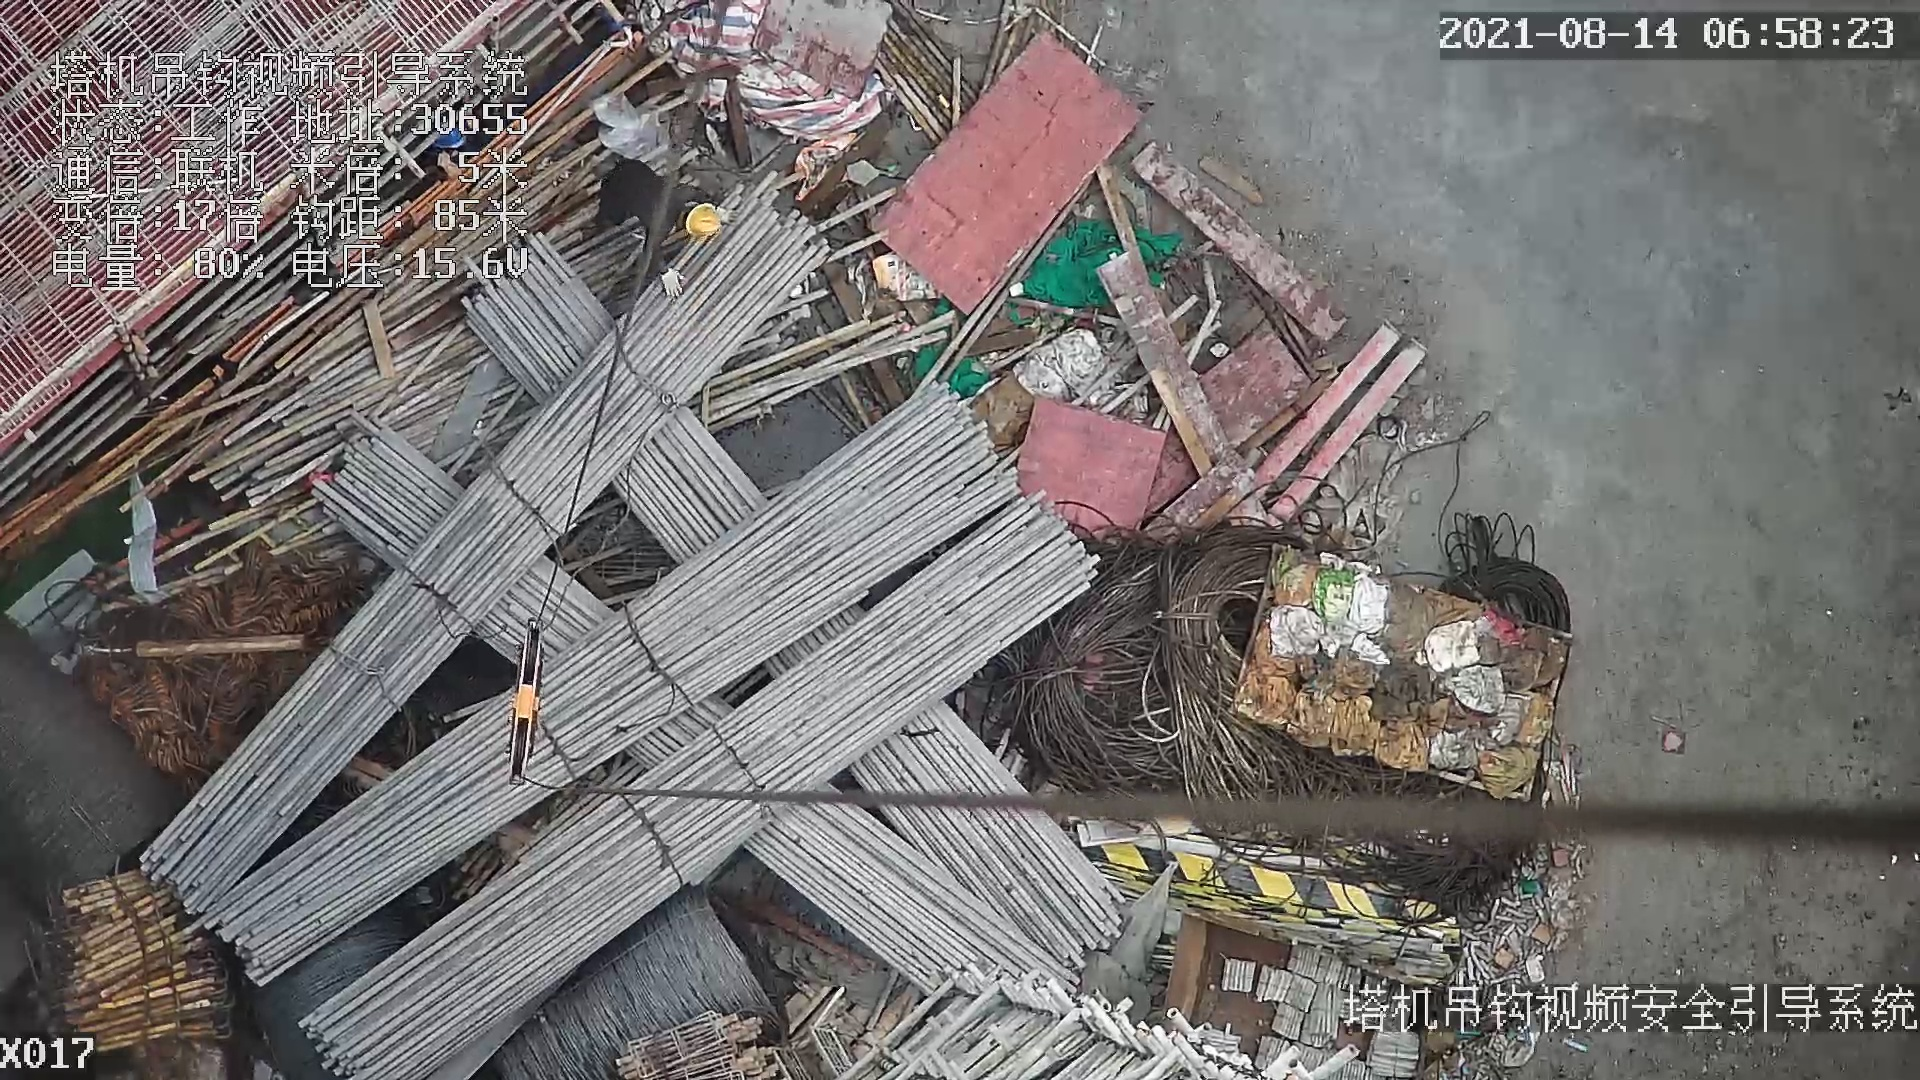helmet: (686, 203, 722, 237)
hook: (501, 614, 542, 787)
person: (595, 162, 737, 303)
rebar: (133, 181, 828, 918), (198, 377, 1020, 984), (294, 499, 1096, 1080), (744, 780, 1085, 1000), (852, 700, 1123, 954)
scaffold: (65, 869, 235, 1050)
